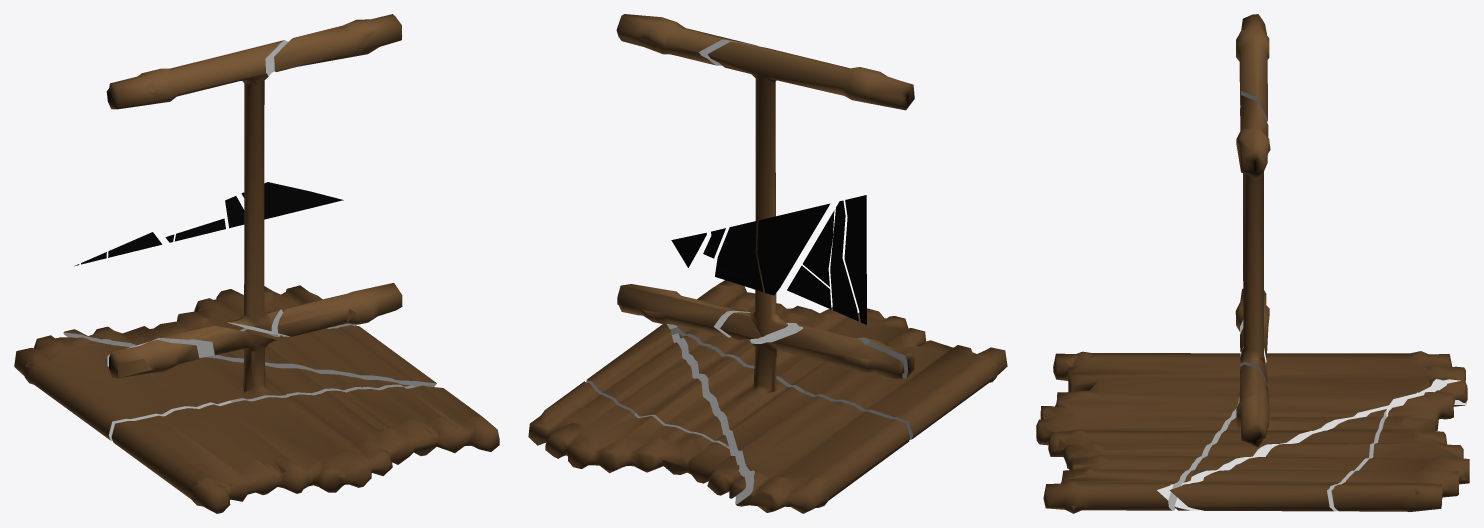
The model's file is Raft(1).glb.
The picture shows the model from 3 angles, left to right: view 1: azimuth 30°, elevation 25°; view 2: azimuth 150°, elevation 25°; view 3: azimuth 270°, elevation 25°; orthographic projection.
Parts seen in each view (by area): view 1: Root.002, Root.009, Root.014, Root.013, Root.005, Root.015, Root.006, Root.010, Root.001, Root.003; view 2: Root.009, Root.002, Root.005, Root.014, Root.013, Root.006, Root.004, Root.015, Root.012, Root, Root.007, Root.011 (+3 smaller); view 3: Root.002, Root.009, Root.013, Root.005, Root.014, Root.006, Root.015.
Part boxes in pixels (bbox=[...]): Root.002: bbox=[111, 385, 499, 513]; Root.009: bbox=[14, 325, 415, 440]; Root.014: bbox=[106, 40, 288, 336]; Root.013: bbox=[205, 325, 436, 386]; Root.005: bbox=[63, 285, 356, 347]; Root.015: bbox=[274, 14, 401, 71]; Root.006: bbox=[277, 283, 402, 336]; Root.010: bbox=[109, 340, 199, 378]; Root.001: bbox=[241, 182, 343, 219]; Root.003: bbox=[108, 232, 162, 257]; Root.009: bbox=[672, 323, 909, 513]; Root.002: bbox=[668, 280, 1007, 439]; Root.005: bbox=[528, 381, 746, 498]; Root.014: bbox=[707, 41, 914, 340]; Root.013: bbox=[586, 324, 728, 447]; Root.006: bbox=[617, 284, 750, 337]; Root.004: bbox=[757, 203, 830, 295]; Root.015: bbox=[616, 14, 758, 65]; Root.012: bbox=[715, 221, 763, 291]; Root: bbox=[844, 195, 866, 324]; Root.007: bbox=[830, 200, 858, 321]; Root.011: bbox=[803, 210, 834, 286]; Root.002: bbox=[1036, 351, 1240, 513]; Root.009: bbox=[1174, 290, 1467, 510]; Root.013: bbox=[1169, 409, 1386, 511]; Root.005: bbox=[1331, 380, 1469, 511]; Root.014: bbox=[1236, 14, 1269, 385]; Root.006: bbox=[1236, 364, 1270, 447]; Root.015: bbox=[1236, 95, 1270, 177].
Size of the model in its own units: 4.01 by 4.82 by 5.14.
